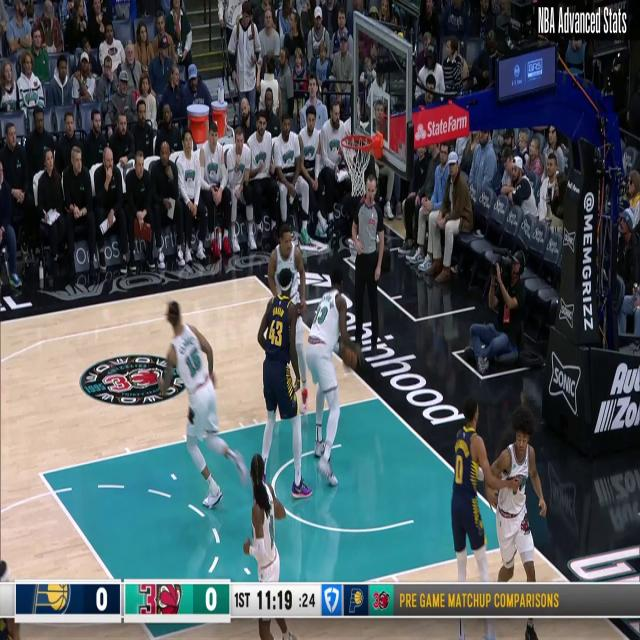ball: (344, 342, 358, 372)
judge: (350, 176, 383, 364)
player: (160, 300, 247, 510), (451, 401, 511, 640), (487, 406, 546, 637), (258, 275, 308, 501), (302, 282, 354, 486), (244, 455, 292, 632), (268, 224, 310, 416)
